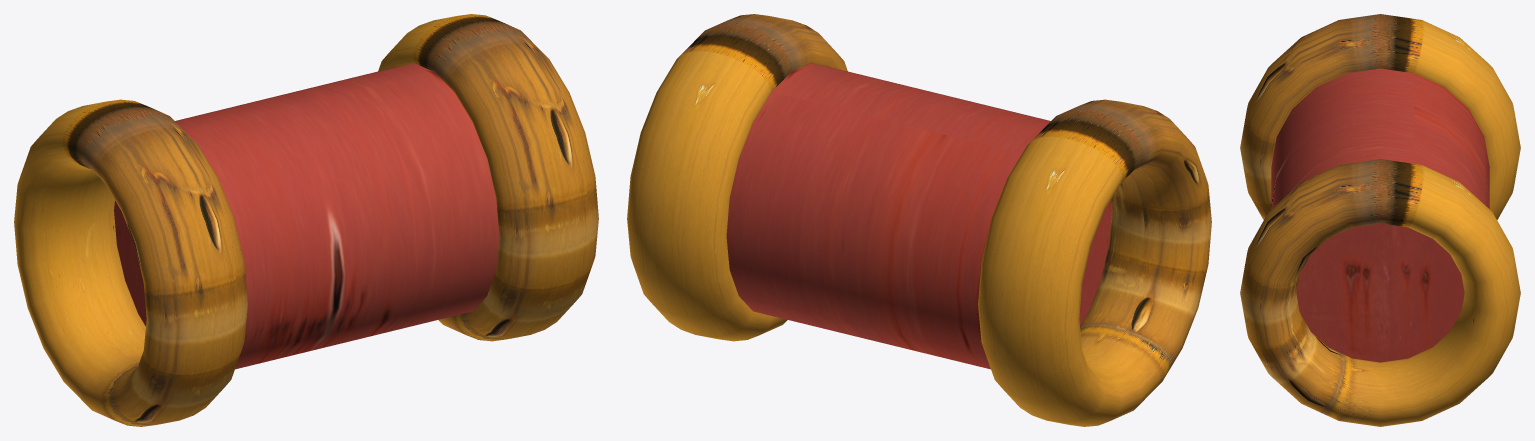
The model's file is ruedaFortunaEje.obj.
3 views of the same model, side by side, from view 1: azimuth 30°, elevation 25°; view 2: azimuth 150°, elevation 25°; view 3: azimuth 270°, elevation 25° (orthographic). The views are drawn at different scales.
Parts seen in each view (by area): view 1: pCylinder174, pTorus1, pTorus3; view 2: pCylinder174, pTorus1, pTorus3; view 3: pTorus3, pCylinder174, pTorus1.
Part boxes in pixels (x1=…): pCylinder174: x1=114, y1=63, x2=499, y2=369; pTorus1: x1=14, y1=99, x2=247, y2=426; pTorus3: x1=378, y1=14, x2=598, y2=341; pCylinder174: x1=726, y1=63, x2=1111, y2=369; pTorus1: x1=978, y1=99, x2=1211, y2=426; pTorus3: x1=627, y1=14, x2=847, y2=341; pTorus3: x1=1240, y1=159, x2=1520, y2=426; pCylinder174: x1=1271, y1=68, x2=1489, y2=362; pTorus1: x1=1240, y1=14, x2=1520, y2=219.
Size of the model in its own units: 14 by 9 by 9.
